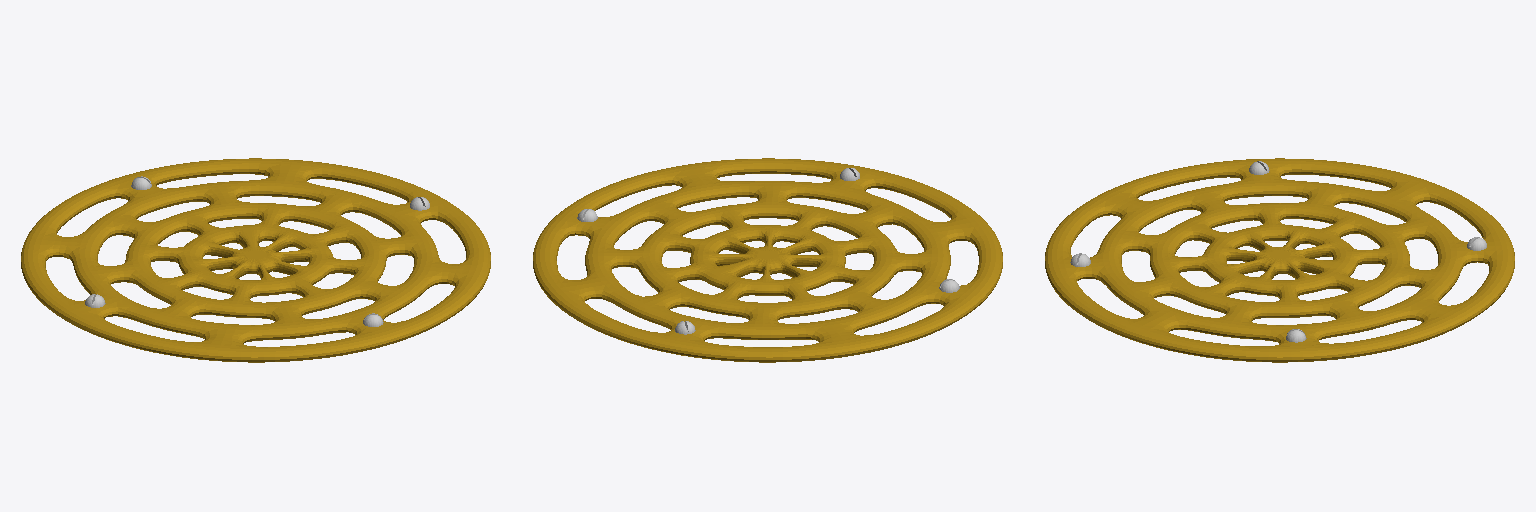
File: FloorDrain.obj
The picture shows the model from 3 angles: view 1: azimuth 30°, elevation 25°; view 2: azimuth 150°, elevation 25°; view 3: azimuth 270°, elevation 25°; orthographic projection.
Visible parts, largest first — view 1: Circle_Circle; view 2: Circle_Circle; view 3: Circle_Circle.
Part boxes in pixels (left/top/right/bottom): Circle_Circle: left=21, top=158, right=490, bottom=362; Circle_Circle: left=533, top=158, right=1002, bottom=362; Circle_Circle: left=1045, top=158, right=1514, bottom=362.
Bounding box in the file's own units: 1.98 × 0.0952 × 1.98.